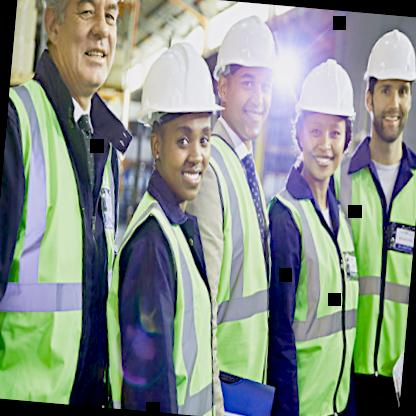helmet: (126, 25, 238, 202), (26, 0, 144, 111), (204, 0, 289, 146), (275, 51, 358, 192), (351, 17, 416, 154)
